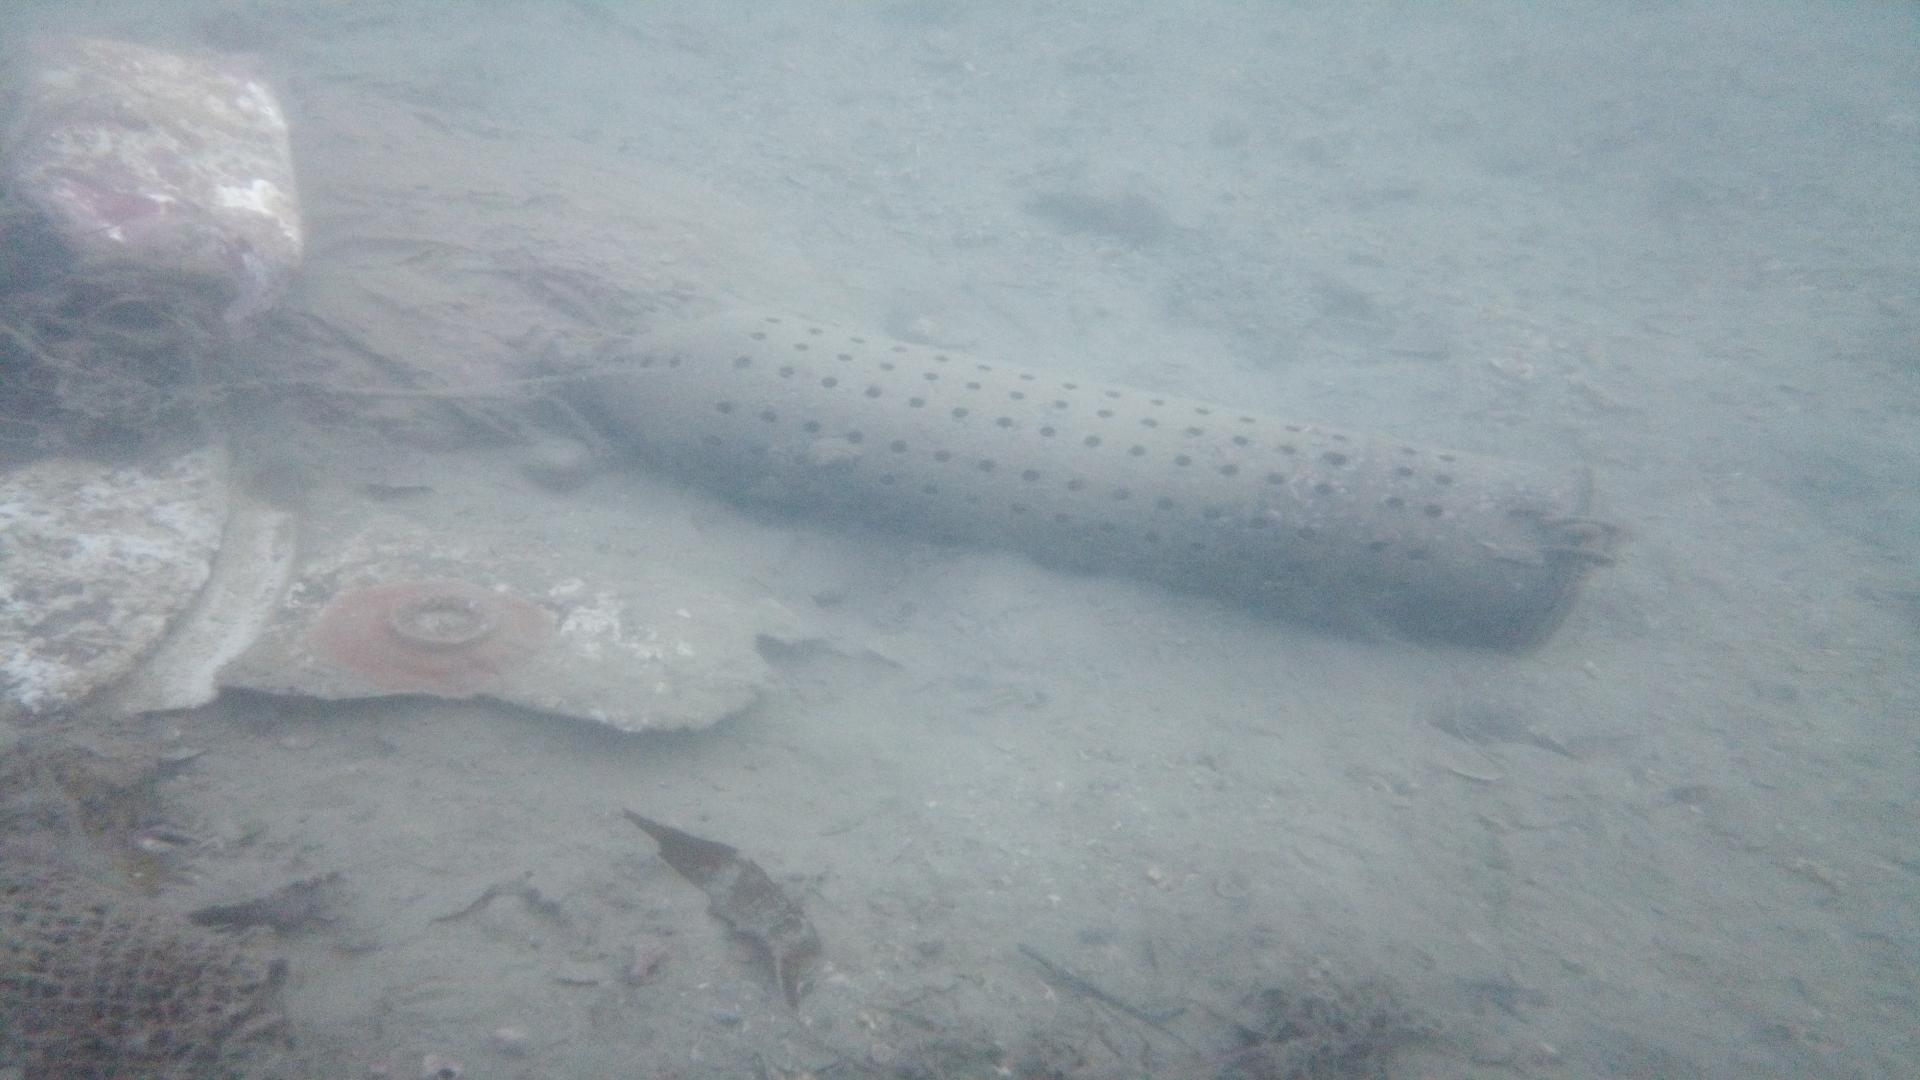eel fish trap: (564, 302, 1609, 654)
